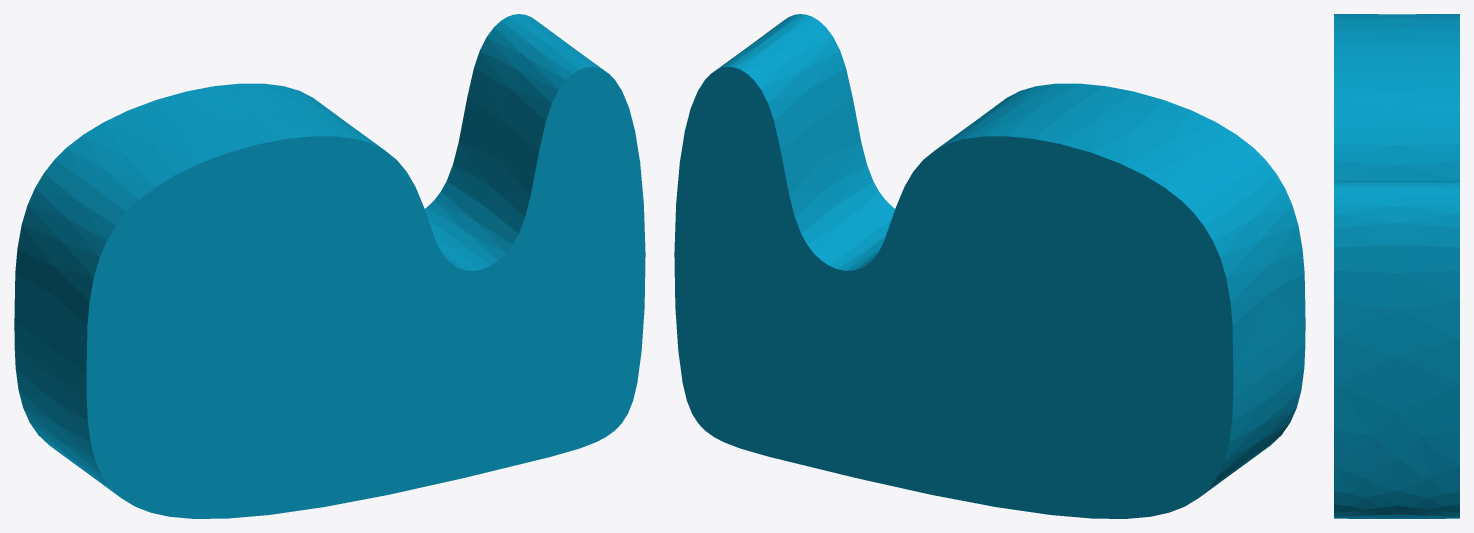
Rendered from my_contour.obj.
The picture shows the model from 3 angles, left to right: view 1: azimuth 30°, elevation 25°; view 2: azimuth 150°, elevation 25°; view 3: azimuth 270°, elevation 25°; orthographic projection. The views are drawn at different scales.
Visible parts, largest first — view 1: Body; view 2: Body; view 3: Body.
Part boxes in pixels (<box>): Body: <box>14,14,645,518</box>; Body: <box>674,14,1305,518</box>; Body: <box>1334,14,1459,518</box>.
Bounding box in the file's own units: 447 × 294 × 100.
